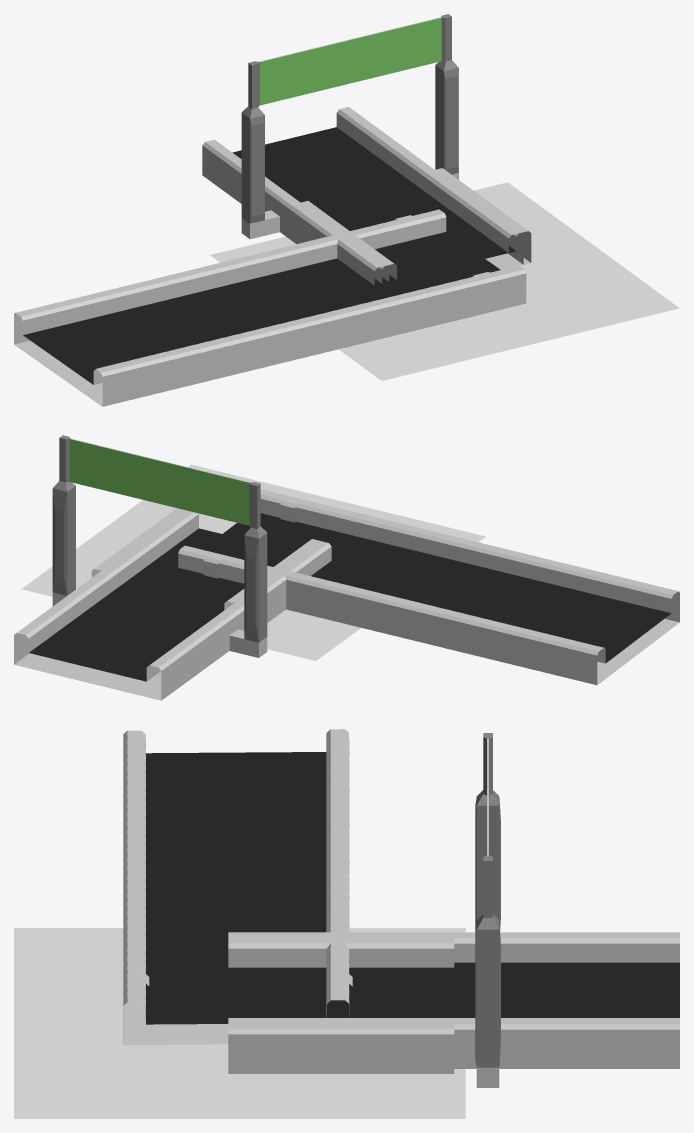
Rendered from new-roadpieces.fbx.
3 views of the same model, one above another, from view 1: azimuth 30°, elevation 25°; view 2: azimuth 150°, elevation 25°; view 3: azimuth 270°, elevation 25° (orthographic). The views are drawn at different scales.
Parts seen in each view (by area): view 1: Bend90Left, Goal, Plane.001, Straight; view 2: Bend90Left, Goal, Plane.001, Straight, RoadPieceElement; view 3: Bend90Left, Goal, Plane.001, Straight.
Boxes of the visible parts, box(x1,y1,x2,y2) form: Bend90Left: box(14, 209, 526, 406); Goal: box(202, 14, 523, 285); Plane.001: box(210, 182, 679, 380); Straight: box(299, 168, 531, 283); Bend90Left: box(178, 489, 679, 685); Goal: box(14, 435, 331, 700); Plane.001: box(21, 464, 485, 660); Straight: box(91, 508, 320, 615); RoadPieceElement: box(203, 500, 297, 578); Bend90Left: box(123, 729, 349, 1045); Goal: box(228, 733, 679, 1087); Plane.001: box(14, 928, 465, 1118); Straight: box(228, 937, 454, 1073).
Size of the model in its own units: 7222 by 2214 by 5900.
